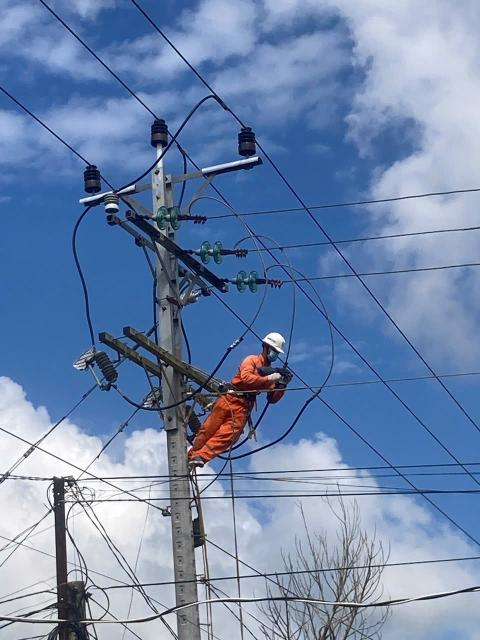gloves: (266, 372, 282, 382)
harness: (217, 380, 264, 409)
helmet: (262, 328, 294, 357)
shoes: (192, 456, 209, 469)
